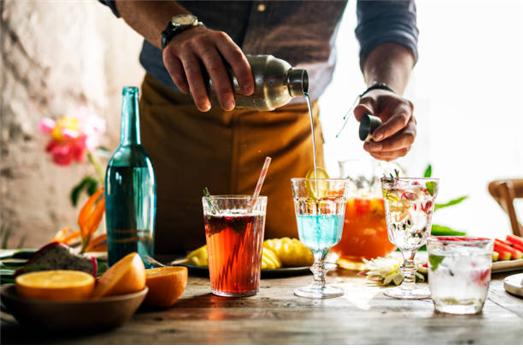alcohol: (105, 83, 155, 273), (204, 191, 260, 296), (293, 175, 339, 297)
